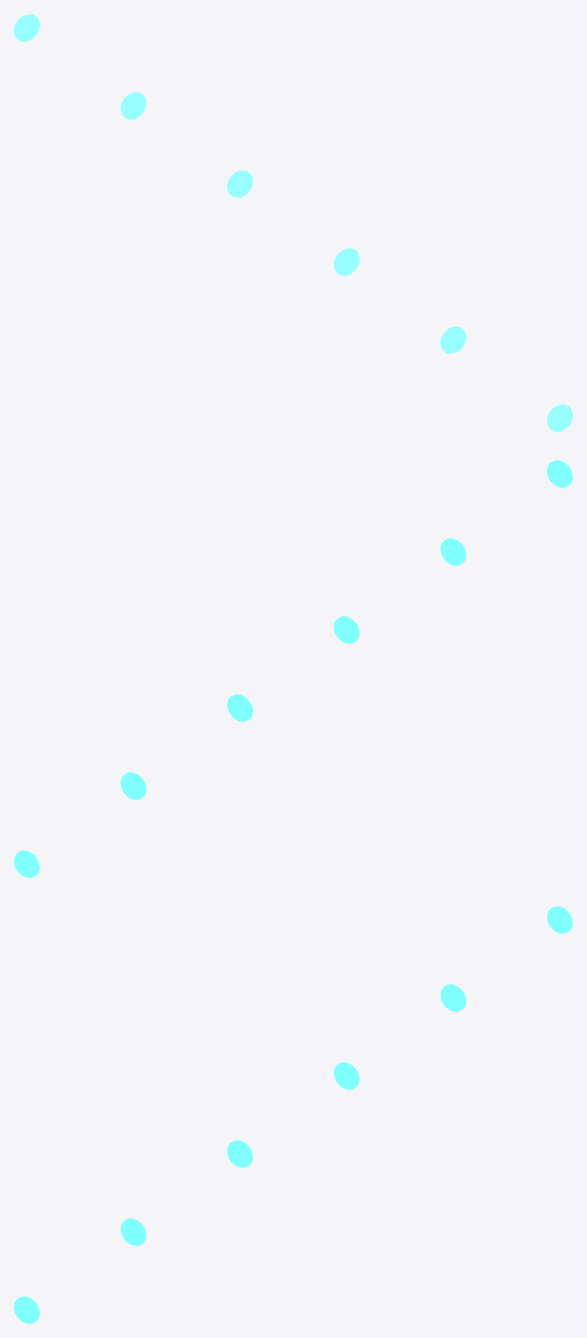
File: flyer_pads.glb
3 views of the same model, one above another, from view 1: azimuth 30°, elevation 25°; view 2: azimuth 150°, elevation 25°; view 3: azimuth 330°, elevation 25° (orthographic).
Parts seen in each view (by area): view 1: SpeedPad_018, SpeedPad_066, SpeedPad_002, SpeedPad_034, SpeedPad_050, SpeedPad_082; view 2: SpeedPad_018, SpeedPad_066, SpeedPad_002, SpeedPad_034, SpeedPad_050, SpeedPad_082; view 3: SpeedPad_018, SpeedPad_066, SpeedPad_002, SpeedPad_034, SpeedPad_050, SpeedPad_082.
Part boxes in pixels (x1,y1,x2,y2): SpeedPad_018: (440, 326, 466, 353); SpeedPad_066: (120, 92, 146, 119); SpeedPad_002: (547, 404, 572, 431); SpeedPad_034: (334, 248, 359, 275); SpeedPad_050: (227, 170, 252, 197); SpeedPad_082: (14, 14, 39, 41); SpeedPad_018: (440, 538, 466, 565); SpeedPad_066: (120, 772, 146, 799); SpeedPad_002: (547, 460, 572, 487); SpeedPad_034: (334, 616, 359, 643); SpeedPad_050: (227, 694, 252, 721); SpeedPad_082: (14, 850, 39, 877); SpeedPad_018: (120, 1218, 146, 1245); SpeedPad_066: (440, 984, 466, 1011); SpeedPad_002: (14, 1296, 39, 1323); SpeedPad_034: (227, 1140, 252, 1167); SpeedPad_050: (334, 1062, 359, 1089); SpeedPad_082: (547, 906, 572, 933).
Size of the model in its own units: 2.2 by 2.2 by 80.08.
